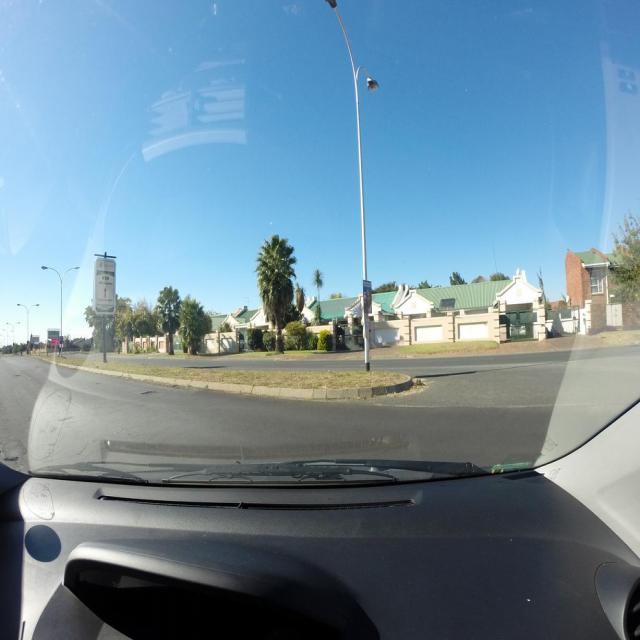Pothole: (140, 390, 160, 397), (3, 456, 18, 462), (95, 382, 100, 386), (14, 374, 20, 377)
